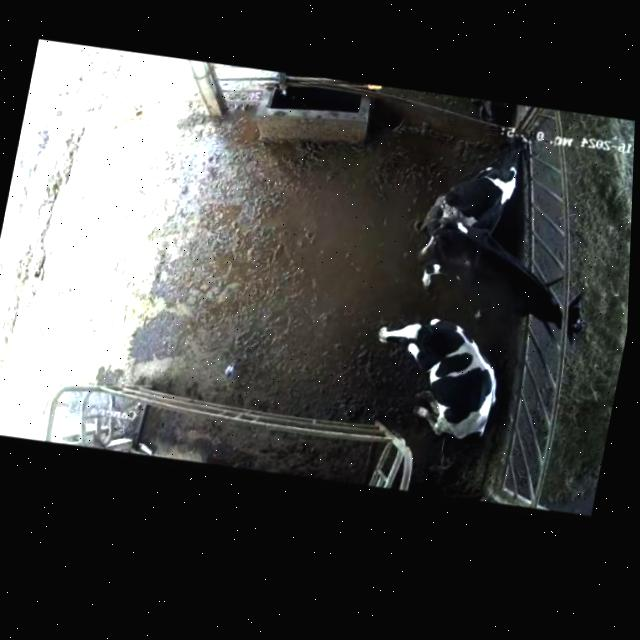eat: (505, 269, 619, 343)
lay: (351, 299, 530, 457), (402, 116, 536, 248)
